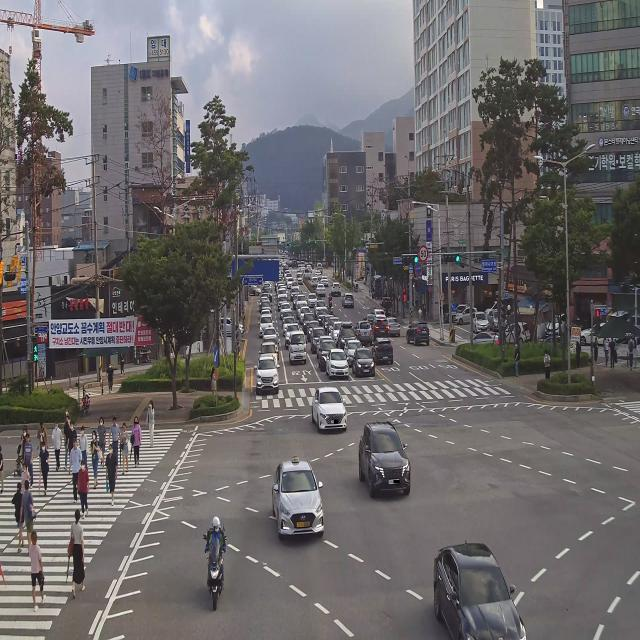Car: (421, 540, 550, 640), (347, 409, 421, 515), (266, 444, 328, 555), (306, 379, 357, 444), (397, 316, 435, 347), (351, 345, 379, 384), (322, 345, 352, 381), (254, 350, 278, 393), (374, 334, 395, 377), (216, 311, 246, 341), (467, 329, 503, 348), (544, 309, 566, 340), (454, 304, 480, 328), (503, 321, 530, 344), (442, 300, 470, 322), (353, 316, 374, 345), (318, 340, 337, 371), (258, 342, 279, 370), (488, 308, 508, 333), (339, 319, 356, 348), (345, 338, 364, 362), (470, 308, 488, 333), (378, 293, 394, 319), (310, 326, 325, 352), (259, 314, 274, 338), (315, 332, 331, 354), (332, 317, 344, 346), (302, 312, 316, 334), (282, 316, 298, 335), (328, 313, 340, 337), (342, 291, 356, 311), (243, 281, 260, 297), (323, 312, 335, 334), (308, 320, 320, 342), (316, 306, 329, 325), (306, 290, 319, 308), (331, 279, 343, 298), (314, 297, 326, 315), (298, 306, 311, 322), (314, 281, 327, 296), (279, 304, 292, 318), (365, 310, 376, 326), (320, 273, 332, 287), (373, 307, 387, 319), (296, 294, 308, 308), (295, 302, 306, 317), (278, 296, 289, 309), (277, 289, 288, 300), (264, 289, 274, 301), (262, 300, 272, 311), (283, 309, 294, 319), (310, 276, 319, 288), (293, 294, 300, 308), (291, 289, 299, 301), (260, 298, 268, 309), (314, 268, 322, 279), (260, 310, 270, 318), (296, 273, 303, 284), (288, 277, 294, 289), (292, 281, 300, 290), (304, 269, 311, 278), (262, 292, 268, 300)
Motorcycle: (195, 503, 231, 612), (326, 291, 334, 311), (352, 278, 358, 293)
Truck: (285, 324, 309, 372), (316, 262, 324, 274)
